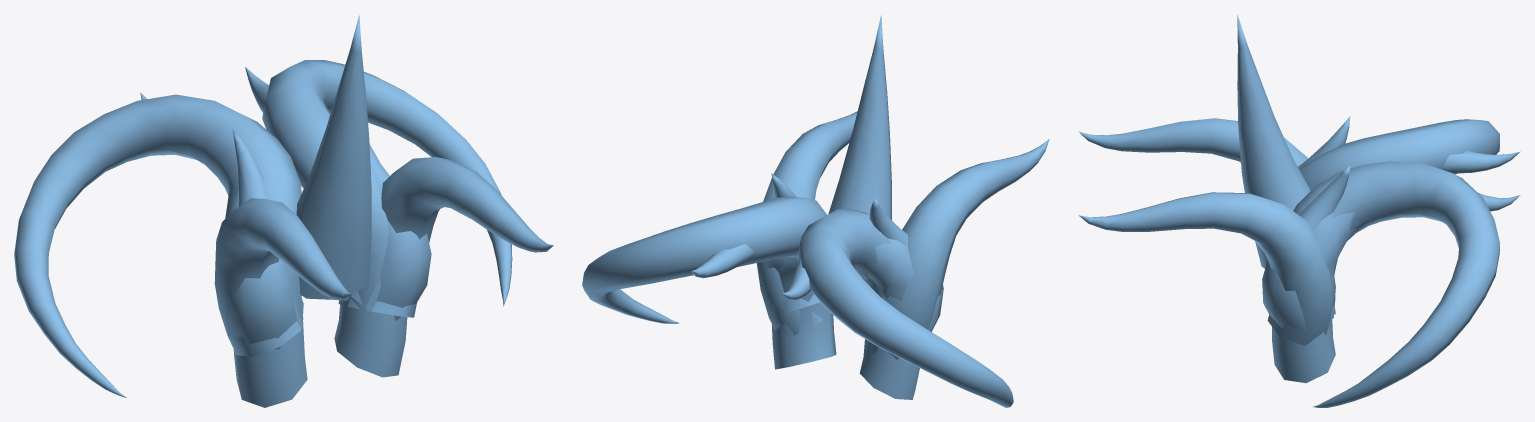
File: horns.fbx
3 renders of one model, left to right at view 1: azimuth 30°, elevation 25°; view 2: azimuth 150°, elevation 25°; view 3: azimuth 270°, elevation 25°, orthographic. The views are drawn at different scales.
Parts seen in each view (by area): view 1: Horn.Ram, Horn.Forward, Horn.Unicorn, Horn.Small, Horn.Backward; view 2: Horn.Ram, Horn.Forward, Horn.Unicorn, Horn.Backward, Horn.Small; view 3: Horn.Ram, Horn.Forward, Horn.Unicorn, Horn.Small, Horn.Backward.
Boxes of the visible parts, bbox=[...] form: Horn.Ram: bbox=[14, 60, 512, 407]; Horn.Forward: bbox=[214, 157, 553, 356]; Horn.Unicorn: bbox=[296, 15, 371, 299]; Horn.Small: bbox=[225, 129, 431, 349]; Horn.Backward: bbox=[140, 67, 381, 327]; Horn.Ram: bbox=[582, 196, 1013, 407]; Horn.Forward: bbox=[756, 111, 1049, 359]; Horn.Unicorn: bbox=[828, 15, 891, 219]; Horn.Backward: bbox=[691, 237, 913, 317]; Horn.Small: bbox=[771, 173, 943, 331]; Horn.Ram: bbox=[1272, 119, 1499, 407]; Horn.Forward: bbox=[1078, 118, 1335, 345]; Horn.Unicorn: bbox=[1237, 15, 1310, 268]; Horn.Small: bbox=[1262, 116, 1350, 334]; Horn.Backward: bbox=[1314, 151, 1520, 320].
Bounding box in the file's own units: 596 × 482 × 572.
